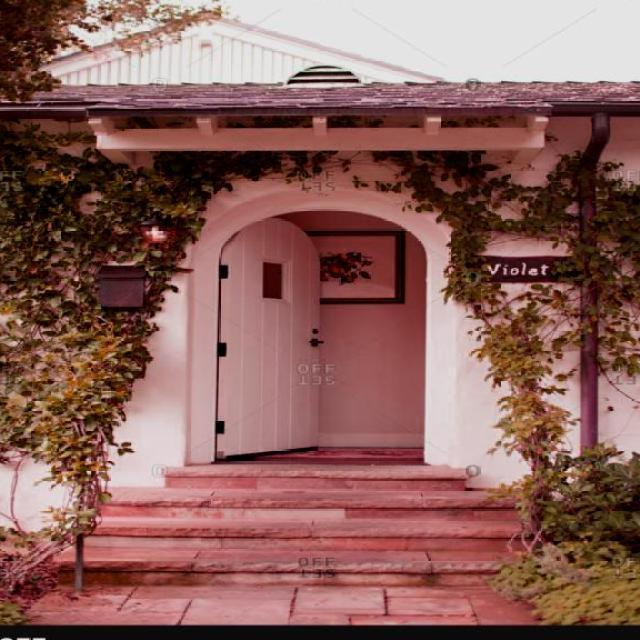door: (214, 217, 321, 459)
